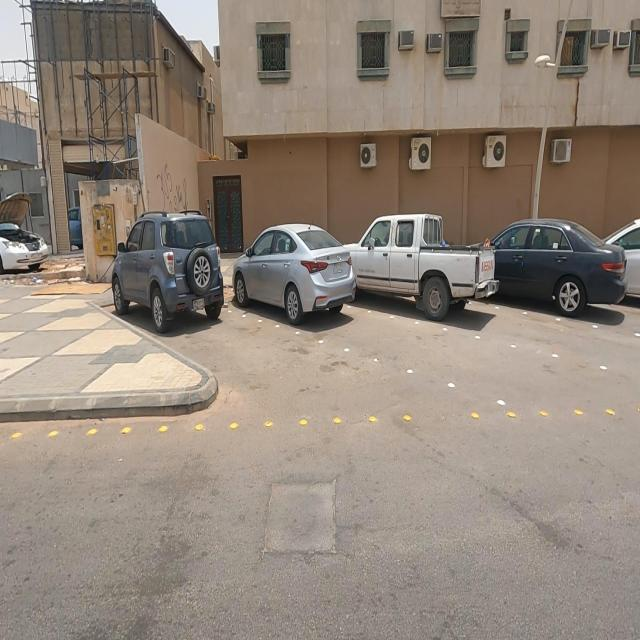Graffiti: (157, 165, 189, 211)
